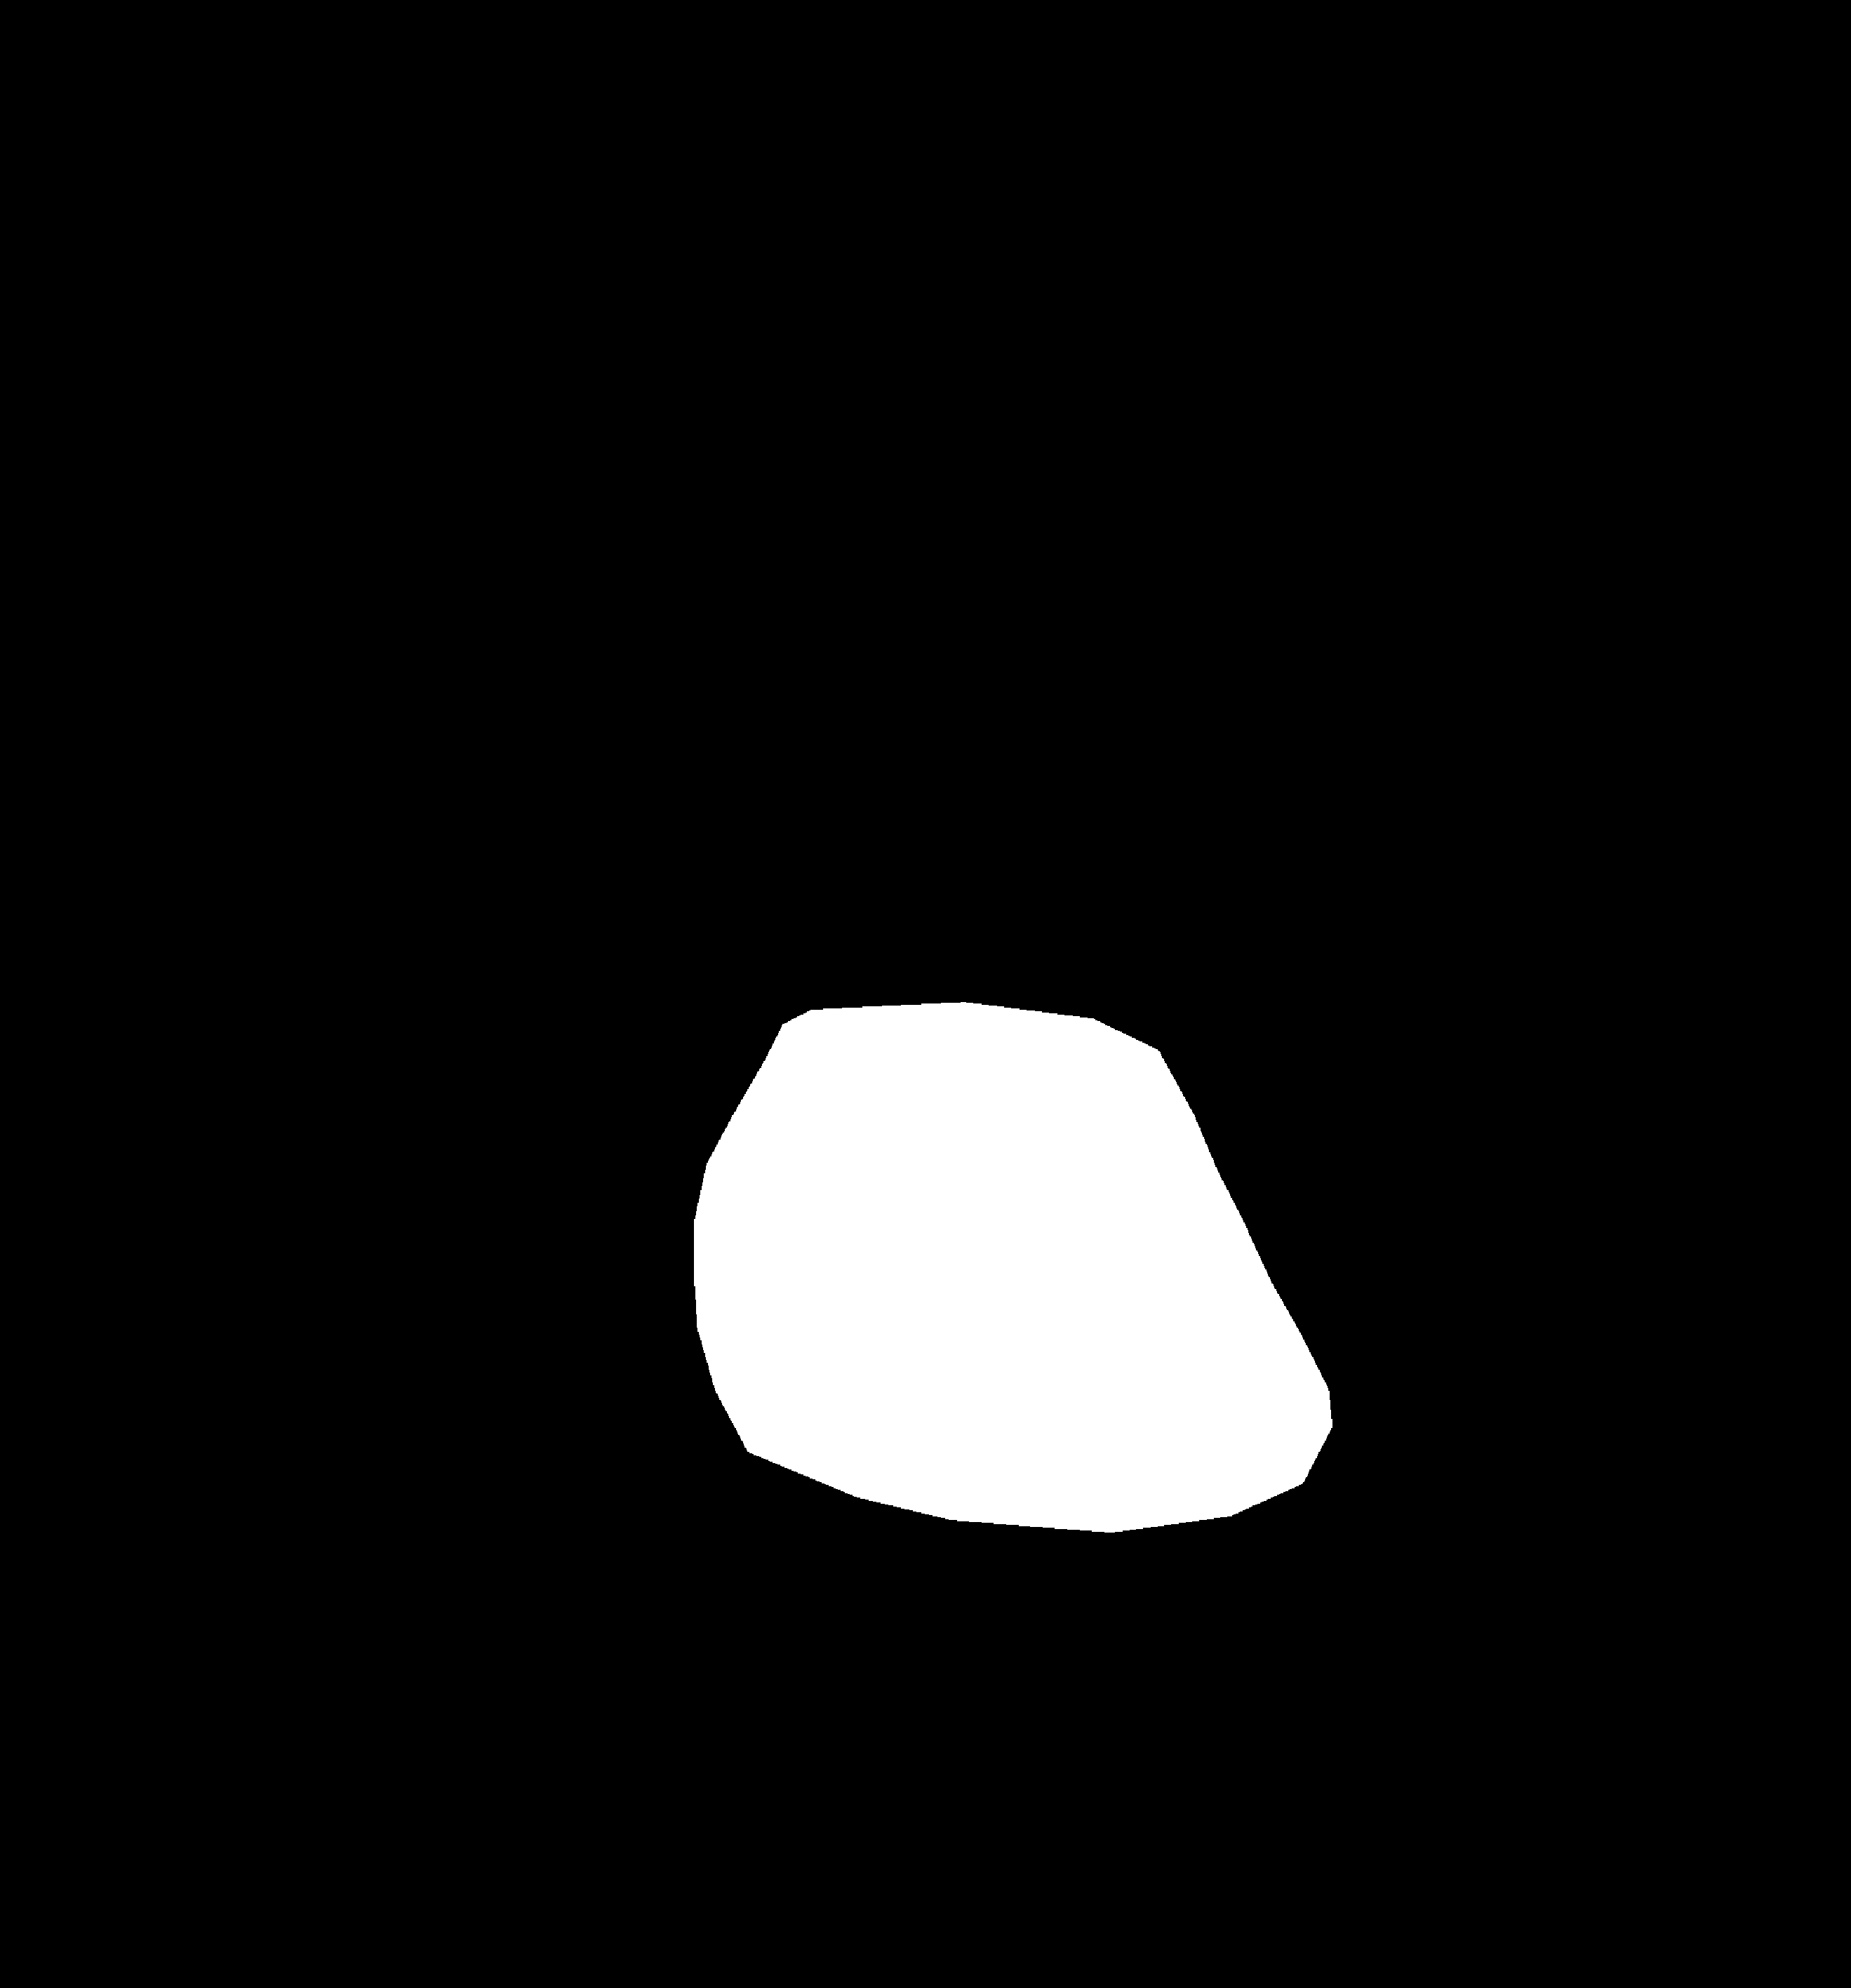heart: (694, 1087, 1320, 1517)
left_lung: (169, 303, 845, 1663)
right_lung: (1061, 304, 1679, 1698)
